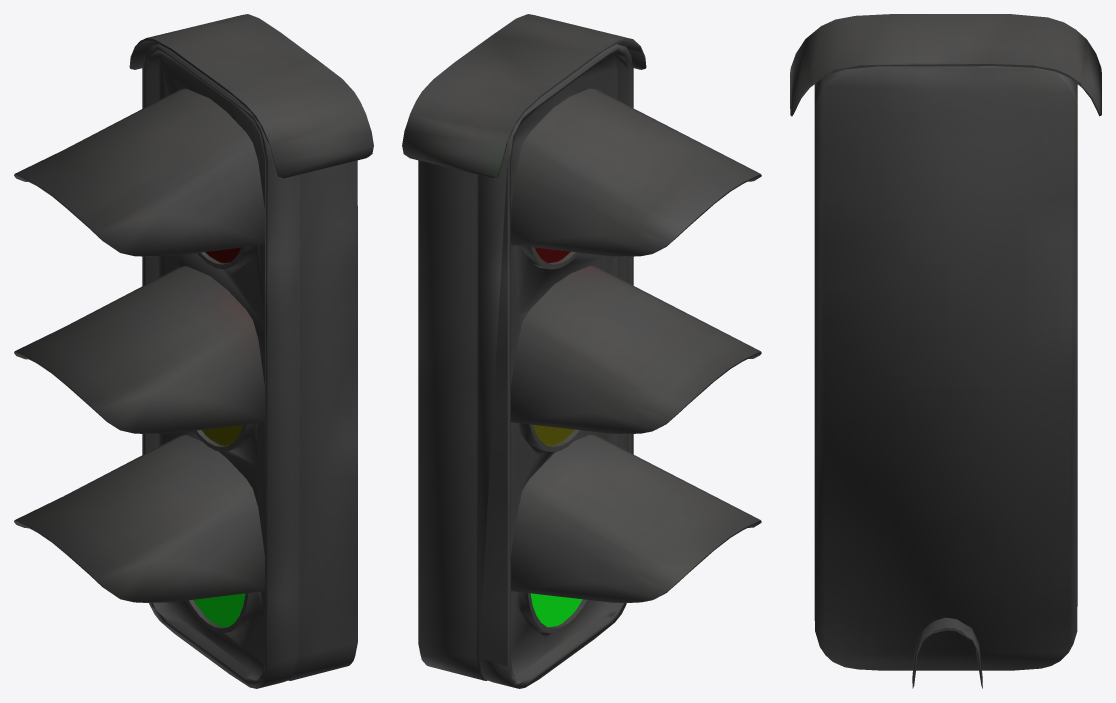
Rendered from traffic_light_green.glb.
3 renders of one model, left to right at view 1: azimuth 30°, elevation 25°; view 2: azimuth 150°, elevation 25°; view 3: azimuth 270°, elevation 25°, orthographic. The views are drawn at different scales.
Visible parts, largest first — view 1: Cube.002__0; view 2: Cube.002__0; view 3: Cube.002__0.
Part boxes in pixels (x1,y1,x2,y2): Cube.002__0: (14, 14, 373, 688); Cube.002__0: (402, 14, 761, 688); Cube.002__0: (790, 14, 1101, 688).
Bounding box in the file's own units: 0.3376 × 0.6961 × 0.3199.
1 material, 1 textured.
